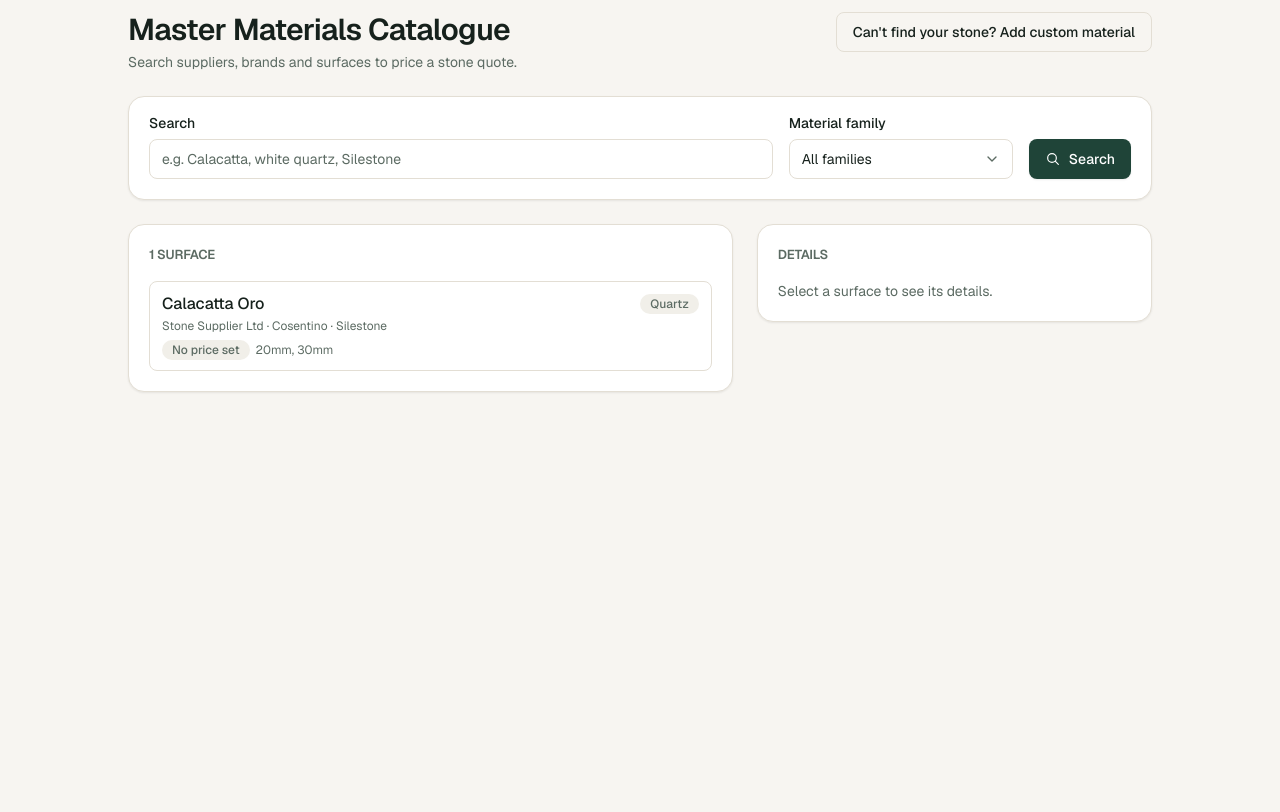
CataloguePage — Sprint 042 Plan 03 › opens a surface's detail panel with its variants and lets the user select one
Click the text "Calacatta Oro" at (213, 304), box [162,292,264,316]
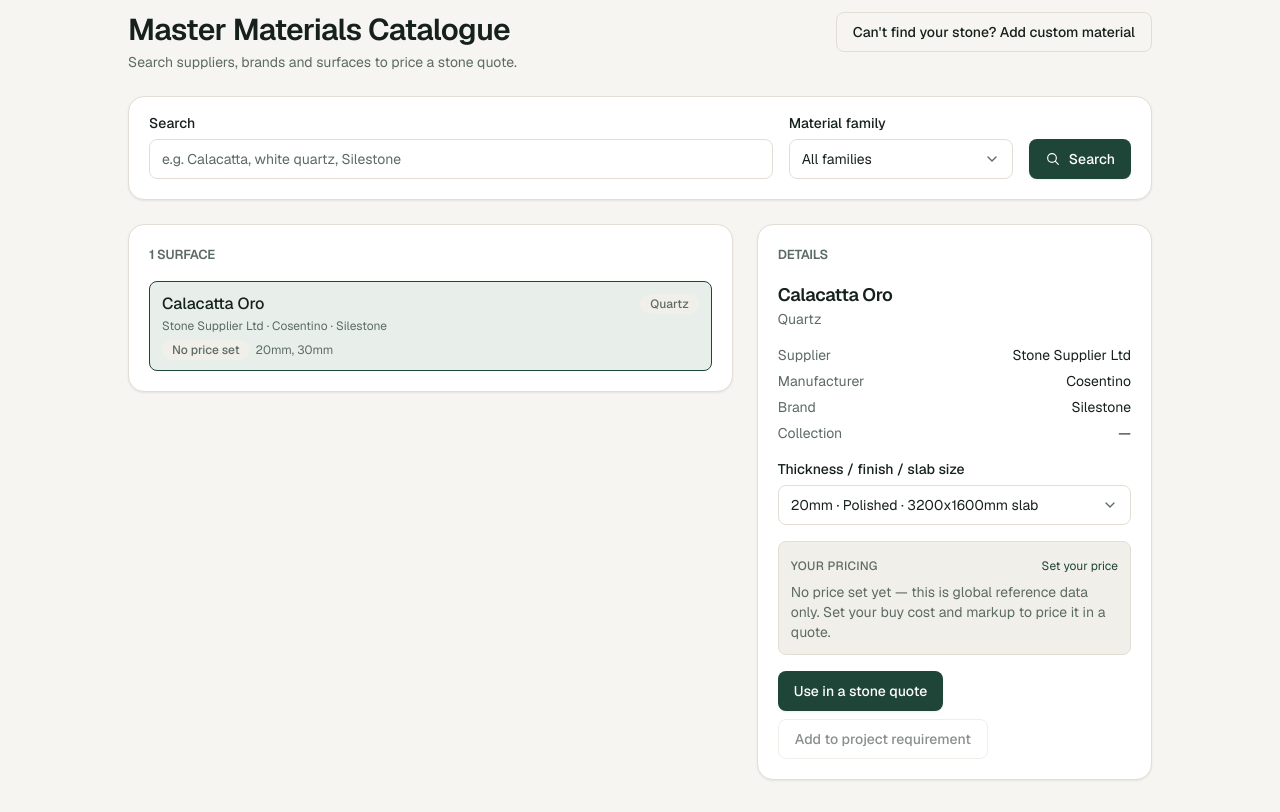
Result: the heading "Calacatta Oro" is shown at [778,282,892,306]
Result: the text "Stone Supplier Ltd" is shown at [1012,346,1131,364]
Result: the dropdown labelled "Thickness / finish / slab size" shows "20mm · Polished · 3200x1600mm slab" at [778,484,1131,524]
